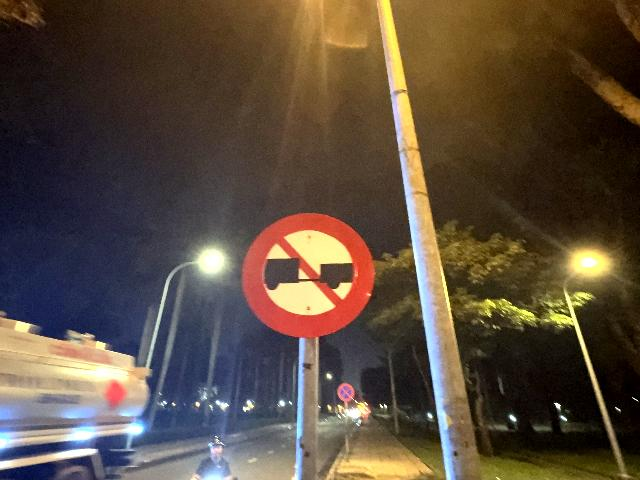cam-xe-somi-romooc: (243, 213, 375, 339)
